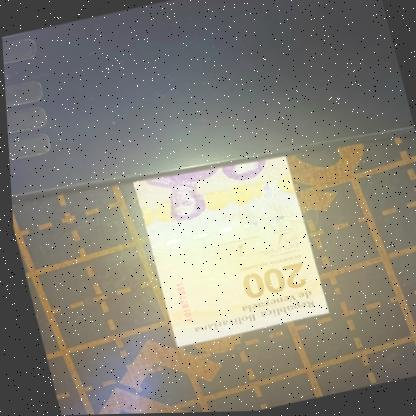two_hundred-front-vef: (129, 148, 328, 349)
